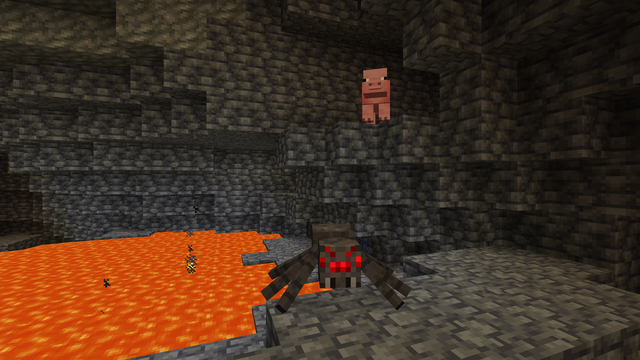araignees: (278, 219, 404, 322)
cochons: (352, 78, 403, 123)
